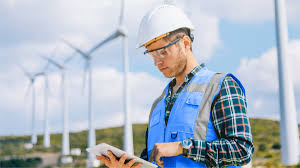Person_wearing_helmet: (138, 1, 198, 57)
